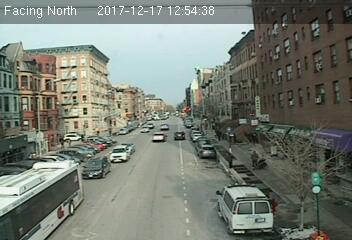car: (82, 156, 111, 179), (110, 146, 131, 164), (198, 145, 215, 157), (151, 132, 167, 143), (174, 130, 187, 141)
police: (216, 181, 274, 235)
